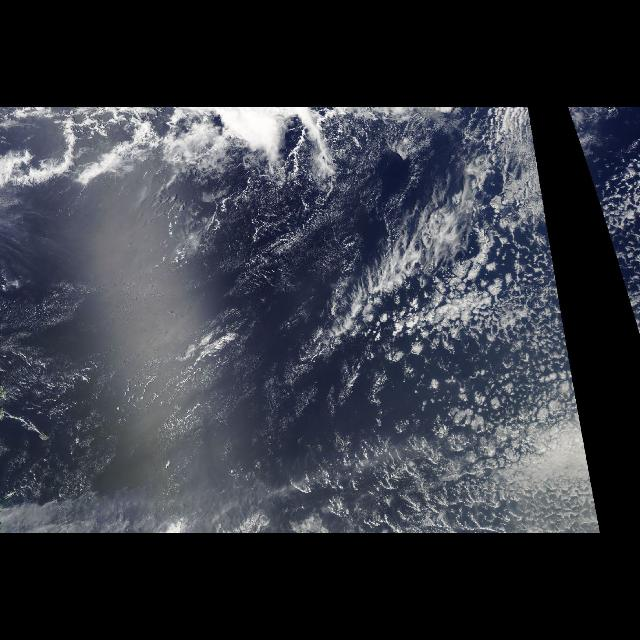Flower: (400, 301, 556, 505)
Gravel: (237, 358, 497, 534)
Sugar: (1, 274, 306, 506)
